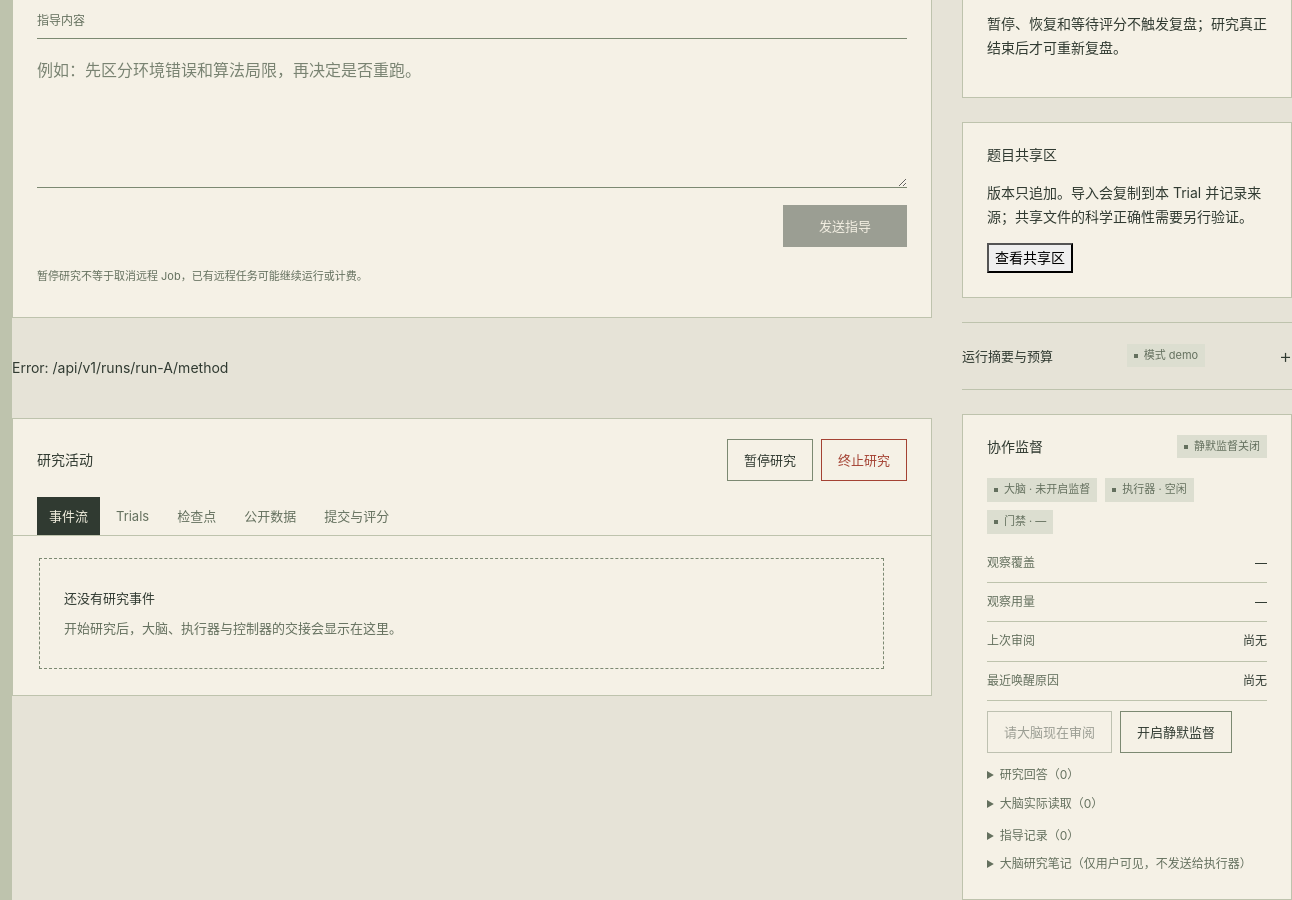
it: research selection and lifecycle safety › refreshes stored scores without requiring a new SSE event or submitting anything
The width and height of the screenshot is (1292, 900).
(page scrolled)
What coordinates should you click on to do the following:
click the tab "提交与评分"
I would click on:
 (357, 516)
Its box is [312,497,401,535].
Wait 5000 ms
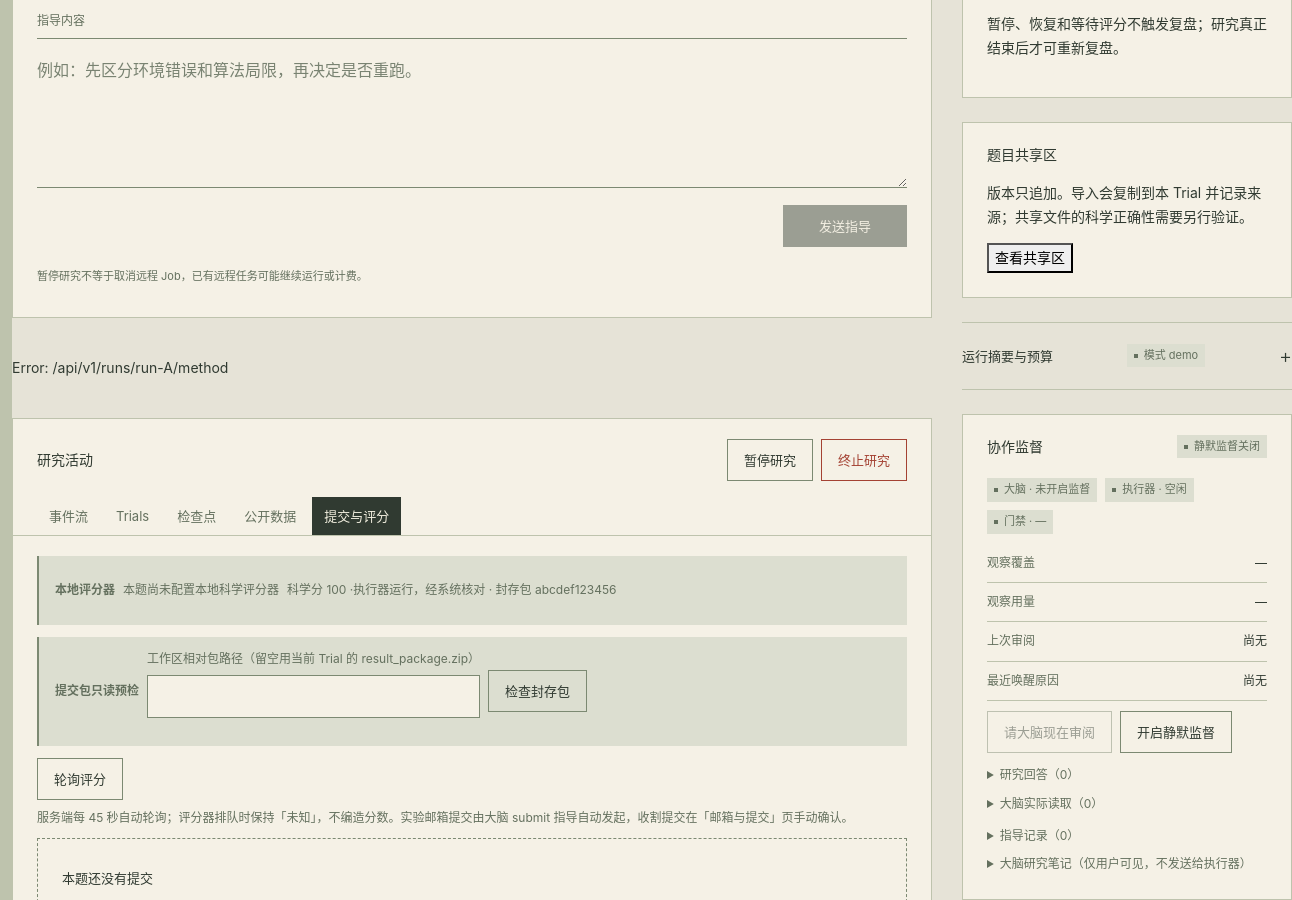
Expected: the text "科学分 100 ·执行器运行，经系统核对 · 封存包 abcdef123456" is shown, [287,580,616,601]
